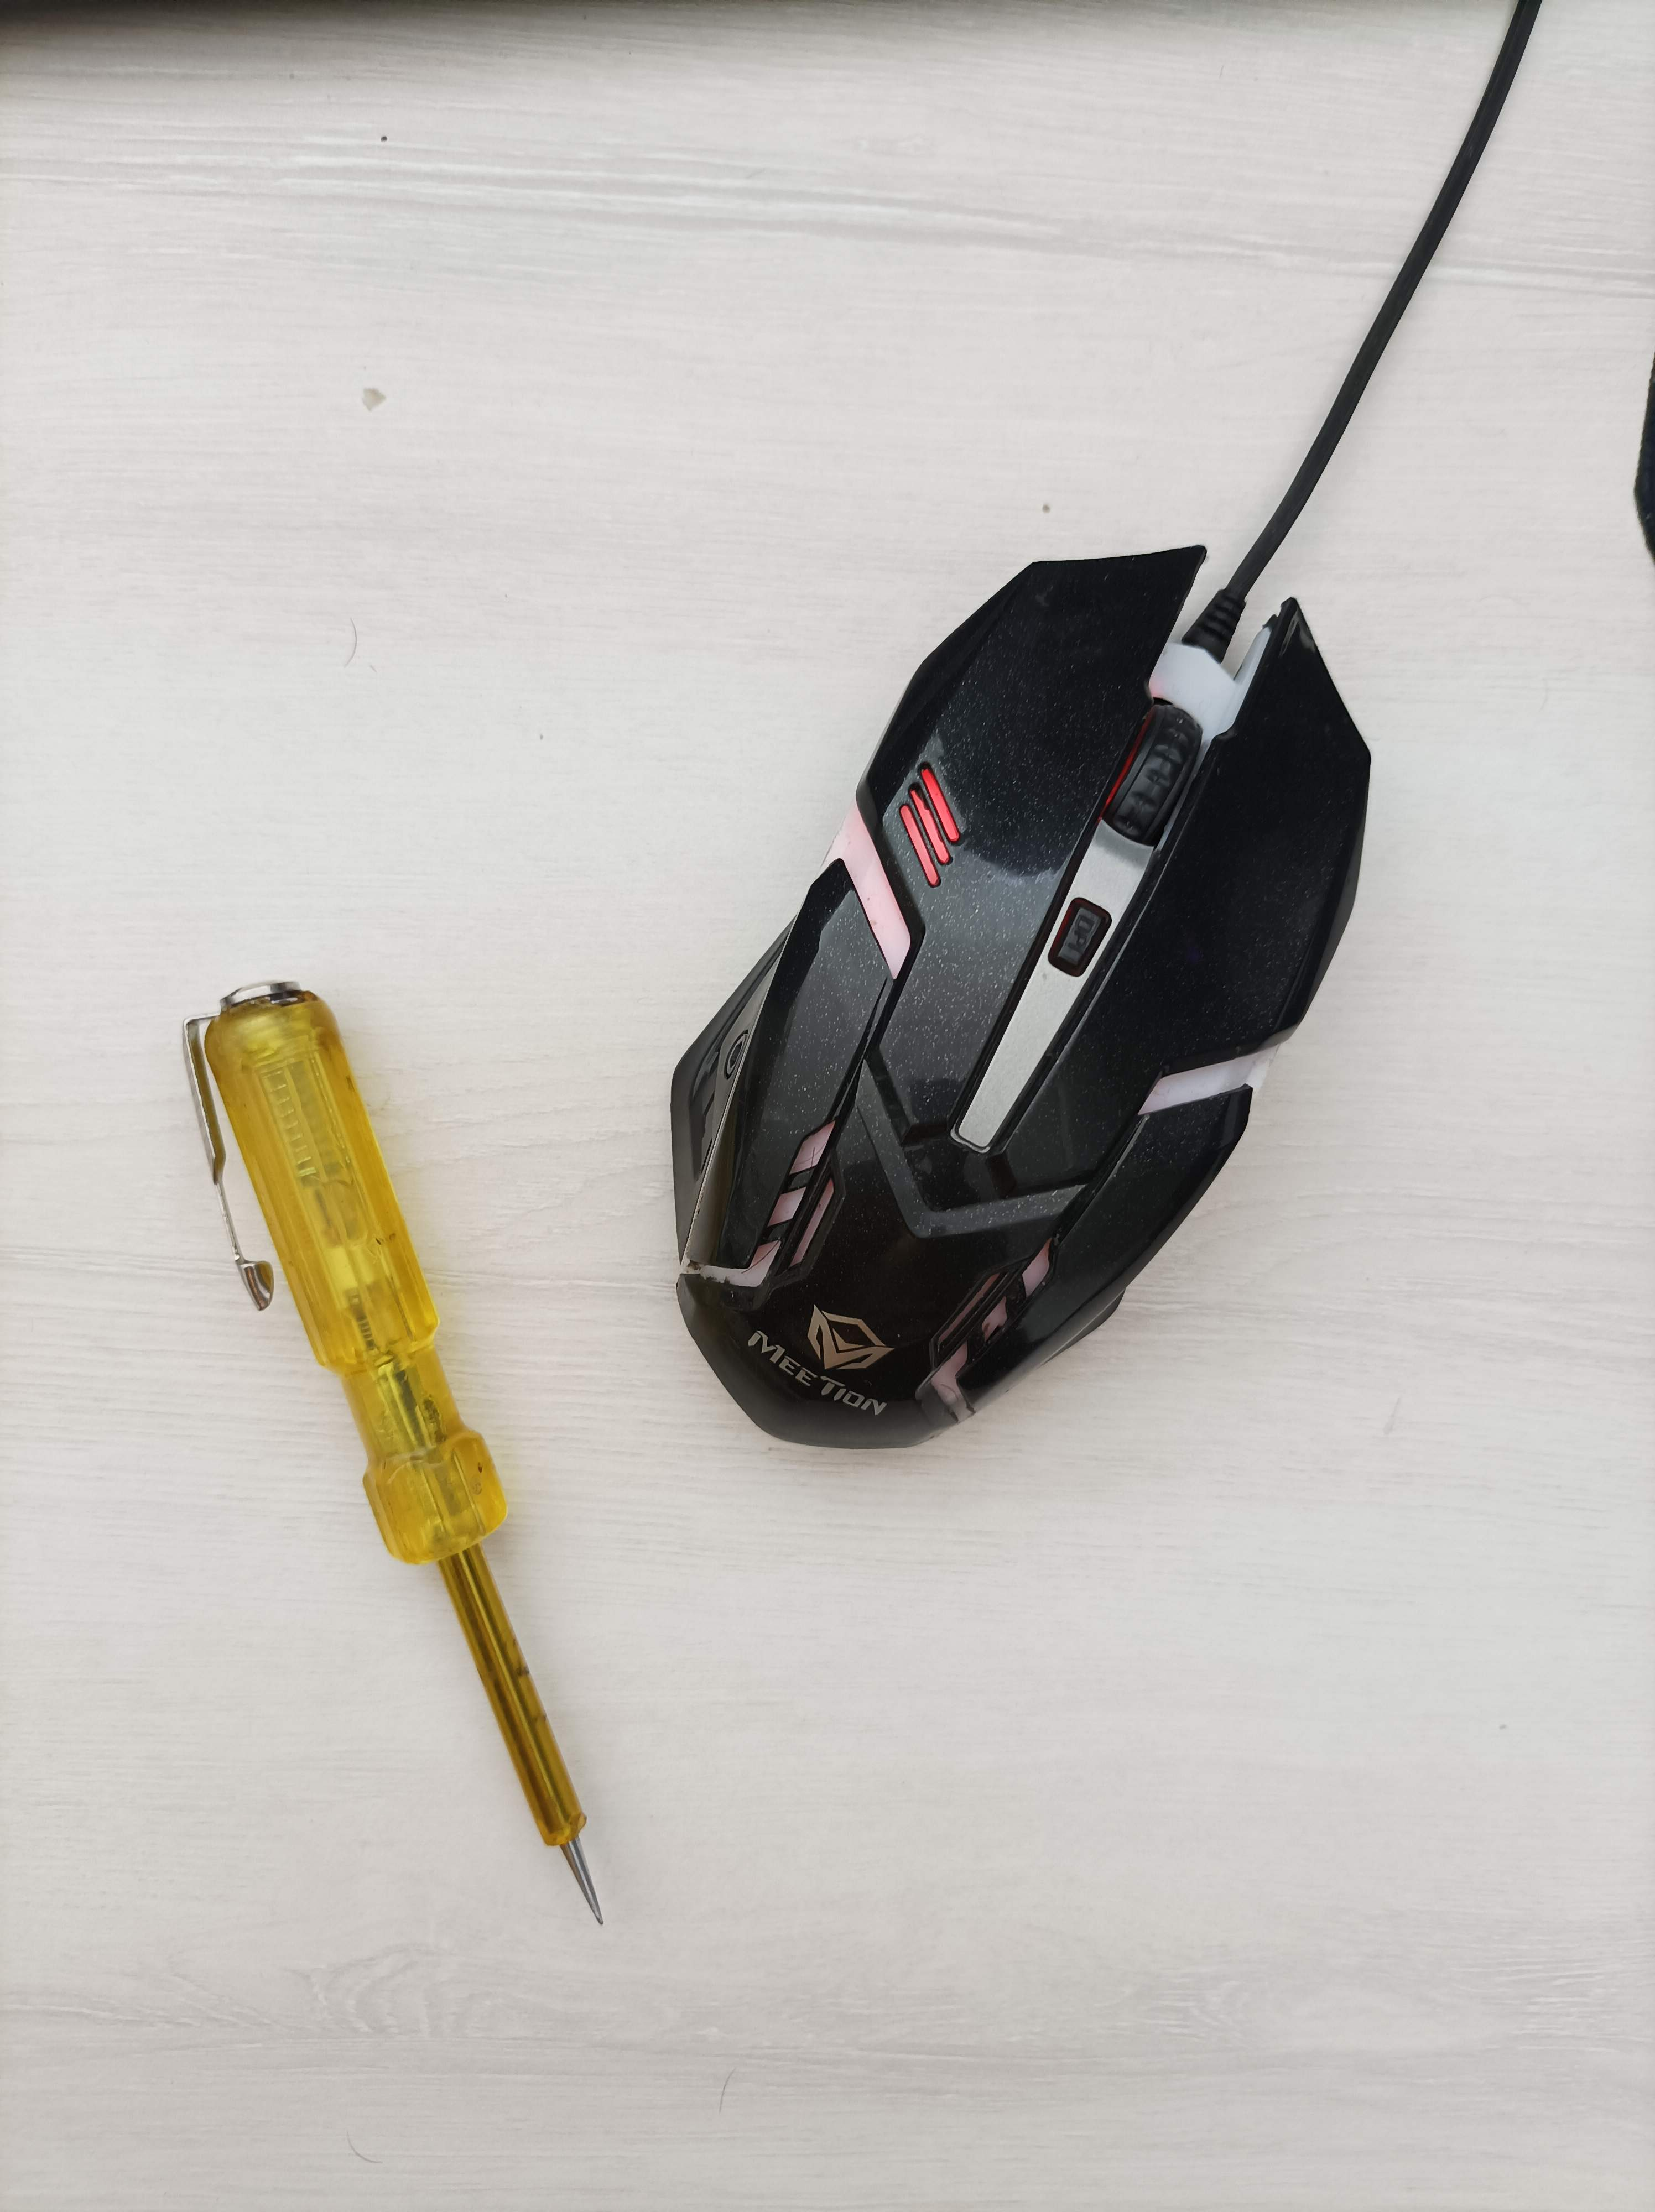mouse: (652, 530, 1387, 1477)
screwdriver: (176, 964, 626, 1958)
